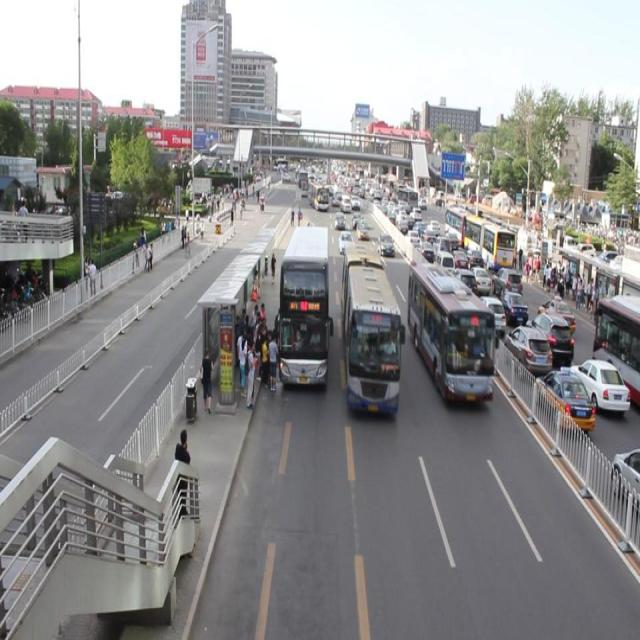car: (377, 233, 393, 260), (337, 228, 352, 256), (333, 210, 345, 230), (356, 222, 368, 240), (349, 192, 359, 210), (330, 190, 339, 208), (351, 214, 359, 228)
truck: (341, 196, 351, 213)
van: (408, 264, 492, 402), (342, 243, 399, 417), (279, 225, 329, 388), (308, 184, 327, 212)
